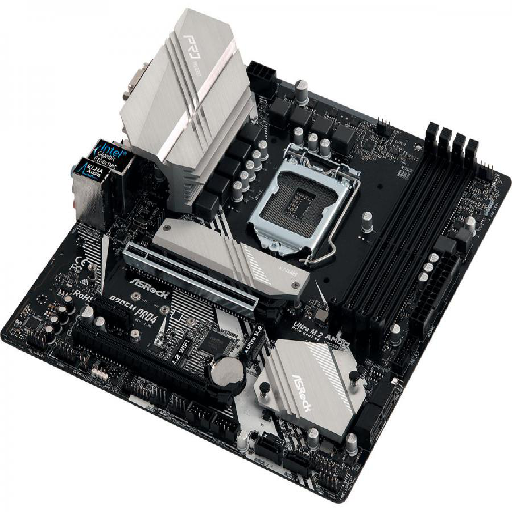CPU: (242, 140, 362, 270)
GPU: (68, 316, 233, 416), (120, 234, 264, 319)
MOTHERBOARD: (2, 7, 512, 504)
RAM: (328, 122, 480, 362)
SSD: (163, 328, 200, 374), (239, 319, 269, 367)
